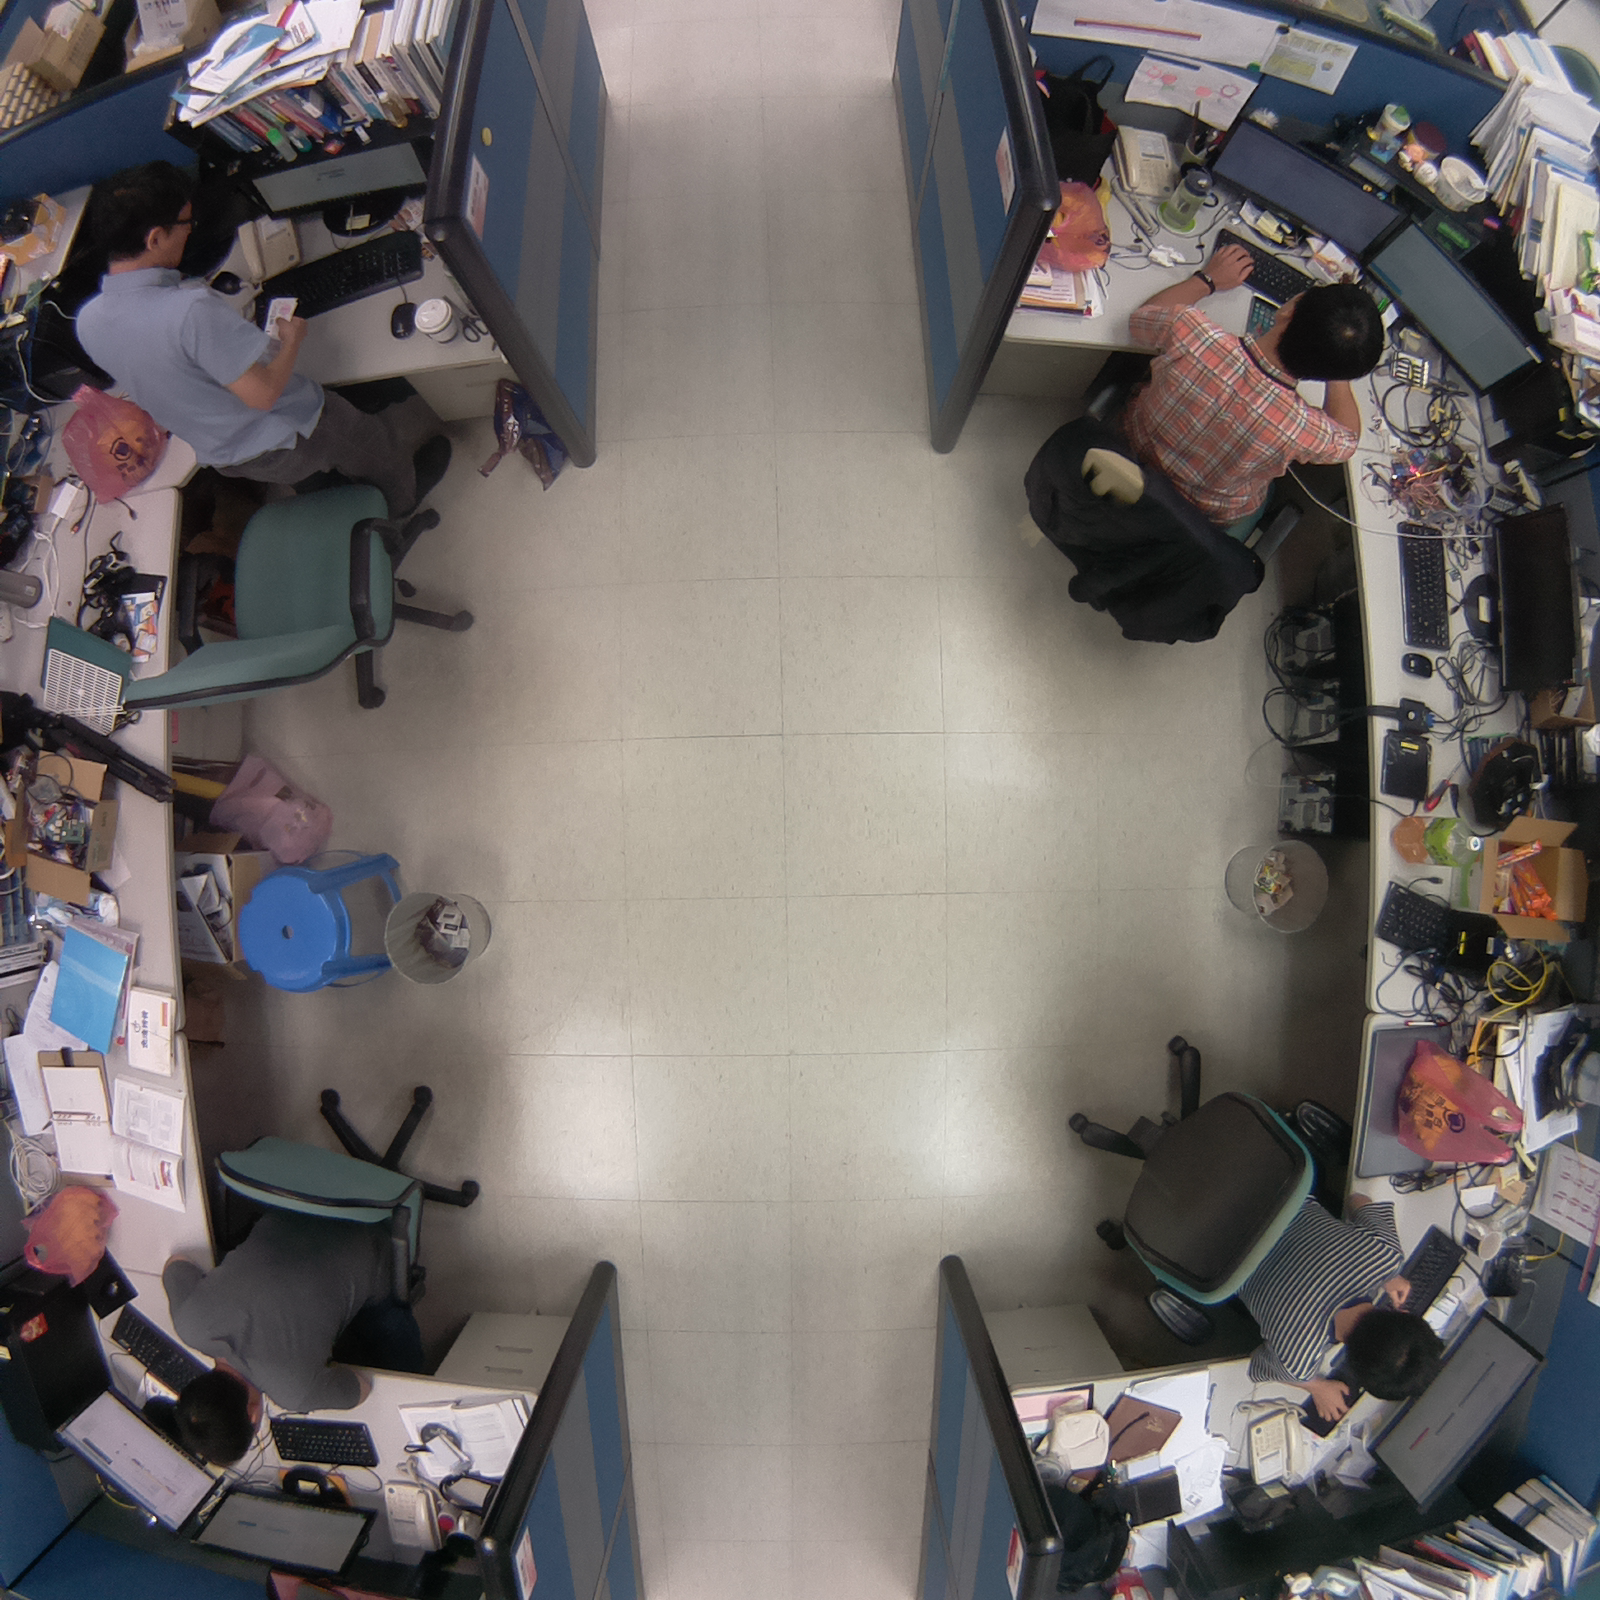chair: (109, 460, 488, 750)
head: (1266, 274, 1392, 389), (88, 149, 194, 271), (1343, 1292, 1448, 1408), (168, 1361, 268, 1471)
sitting: (1004, 238, 1395, 670), (1060, 1024, 1441, 1431), (145, 1055, 501, 1474)
standing: (62, 164, 459, 523)
